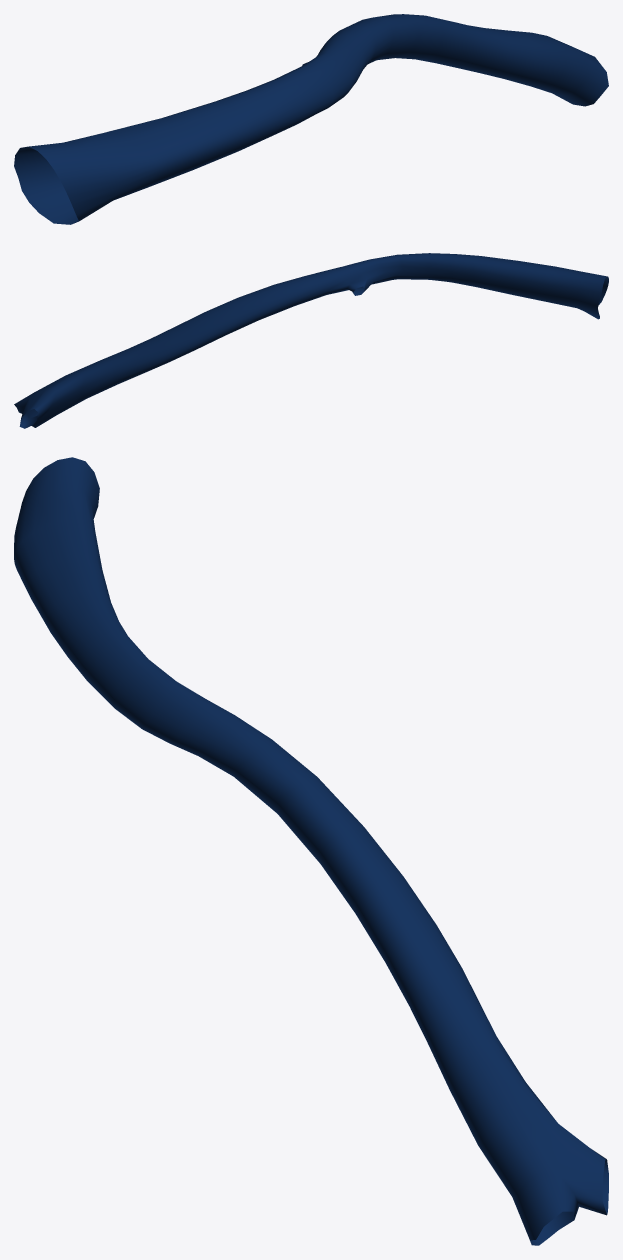
The model's file is L vena iliaca externa.fbx.
3 renders of one model, top to bottom at view 1: azimuth 30°, elevation 25°; view 2: azimuth 150°, elevation 25°; view 3: azimuth 270°, elevation 25°, orthographic. The views are drawn at different scales.
Visible parts, largest first — view 1: L vena iliaca externa; view 2: L vena iliaca externa; view 3: L vena iliaca externa.
Part boxes in pixels (x1=…): L vena iliaca externa: x1=14, y1=14, x2=608, y2=224; L vena iliaca externa: x1=14, y1=253, x2=608, y2=428; L vena iliaca externa: x1=14, y1=457, x2=608, y2=1245.
Size of the model in its own units: 11.15 by 3.88 by 6.09.
